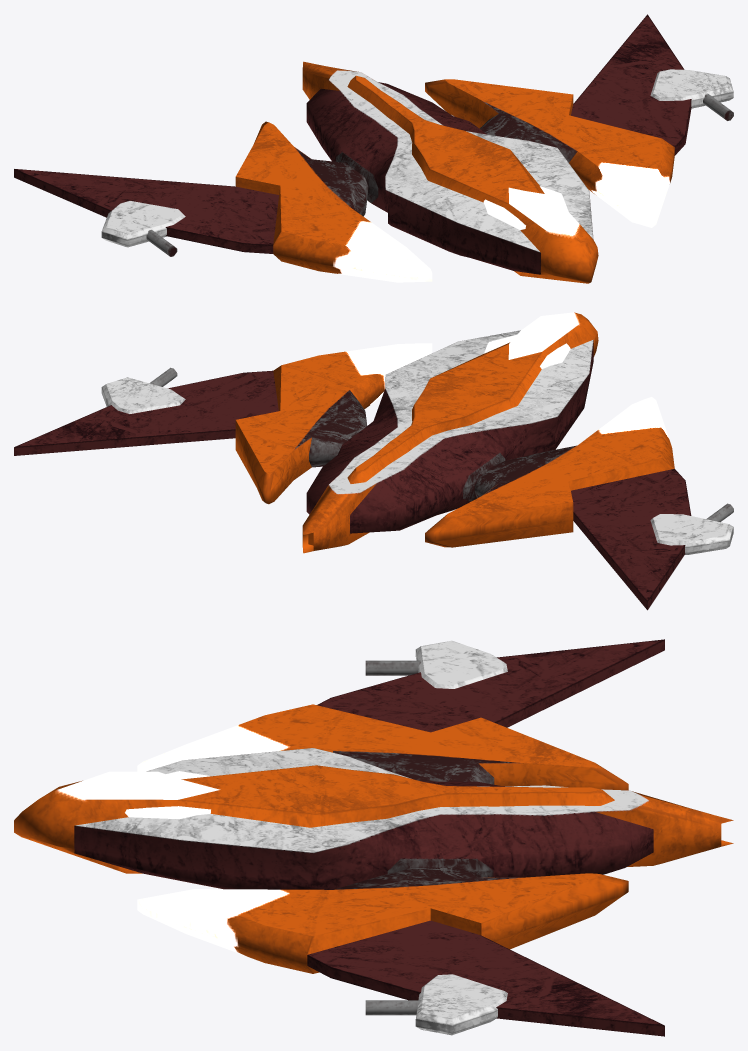
The model's file is Enemy2.fbx.
The picture shows the model from 3 angles, top to bottom: view 1: azimuth 30°, elevation 25°; view 2: azimuth 150°, elevation 25°; view 3: azimuth 270°, elevation 25°; orthographic projection. The views are drawn at different scales.
Parts seen in each view (by area): view 1: Enemy2; view 2: Enemy2; view 3: Enemy2.
Boxes of the visible parts, left/top/right/bottom form: Enemy2: left=14, top=14, right=733, bottom=283; Enemy2: left=14, top=312, right=733, bottom=610; Enemy2: left=14, top=639, right=733, bottom=1036.
Bounding box in the file's own units: 279 × 26.55 × 220.
